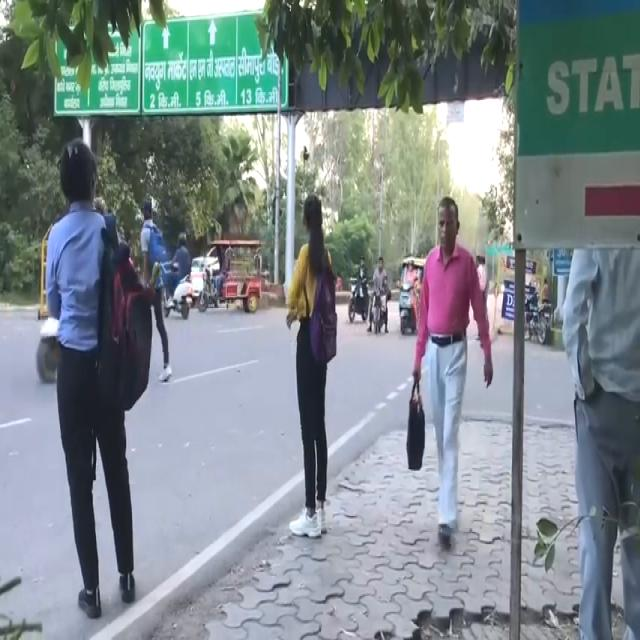MOTORCYCLE: (348, 271, 368, 323), (399, 276, 414, 338)
